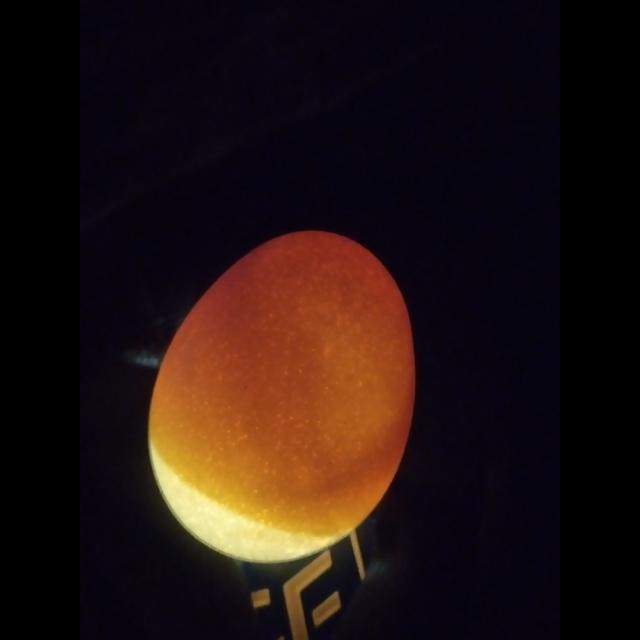Infertile: (147, 232, 421, 564)
